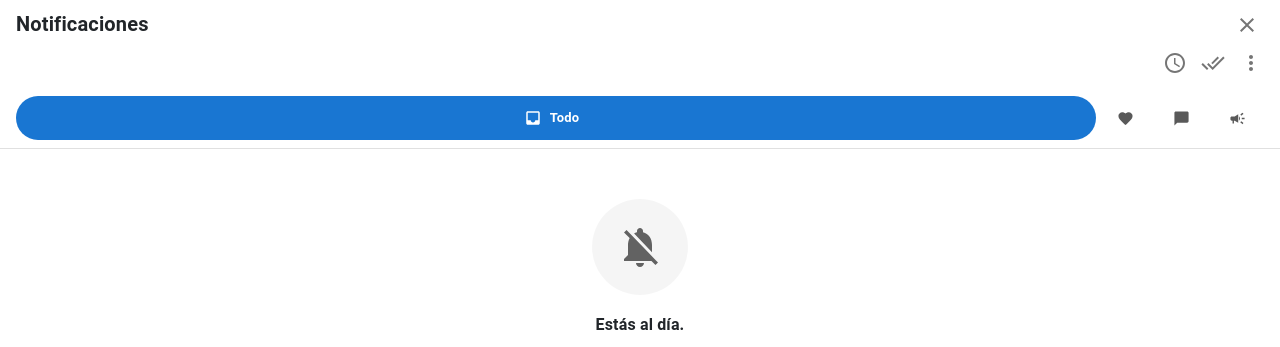
Test: NotificationPanel › offers the 15m, 30m, 1h, 2h and 8h presets
The image size is (1280, 347).
What coordinates should you click on to do the following:
click the button with test id "notification-pause"
I would click on:
 (1175, 63)
Its box is top-left (1158, 46), bottom-right (1192, 80).
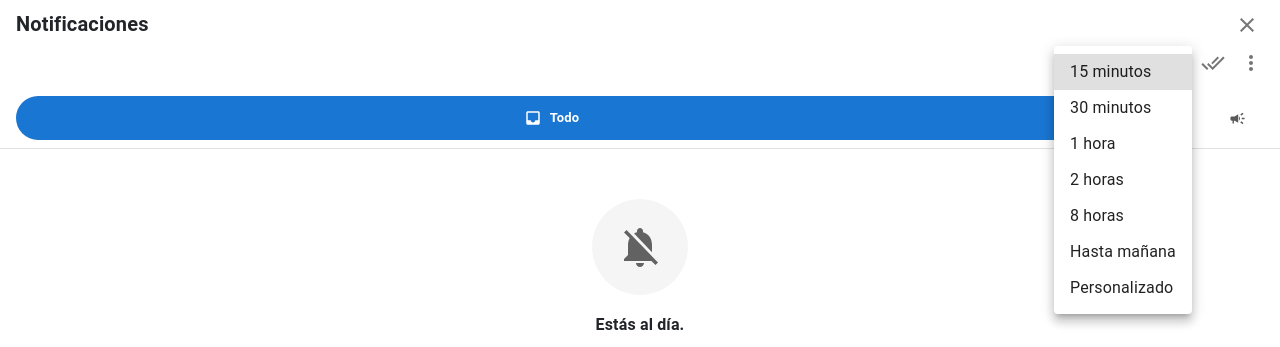
Check: the menu item with test id "notification-pause-30m" is shown, box top-left (1070, 98), bottom-right (1152, 117)
